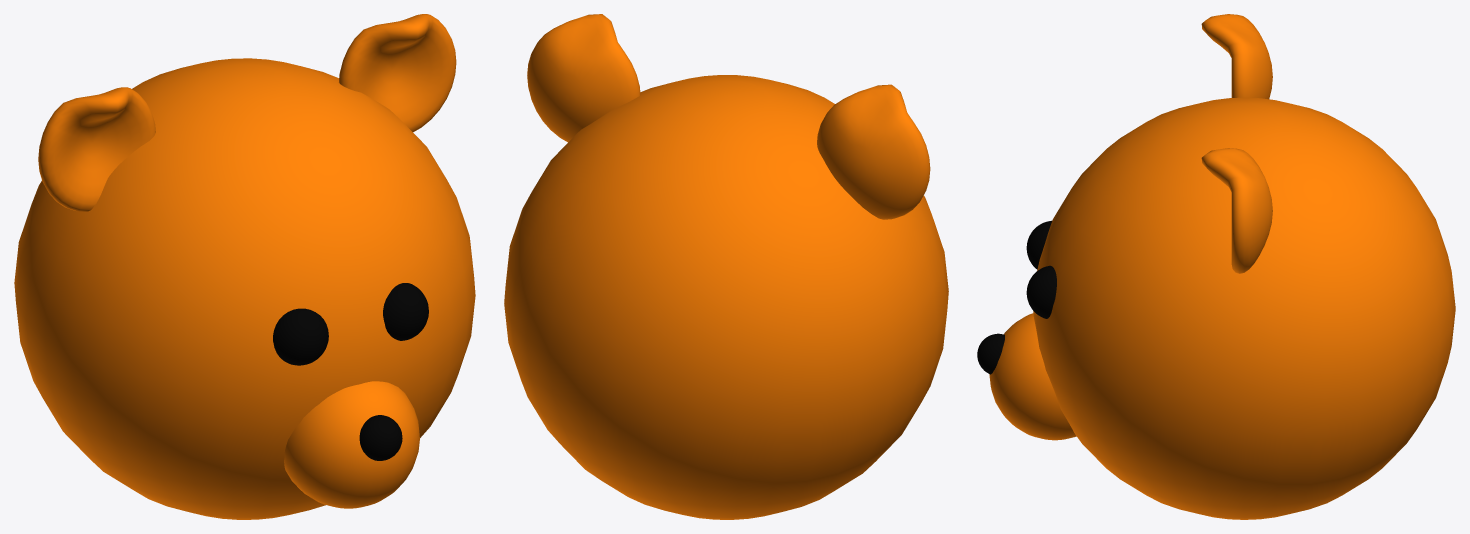
File: Teddy_head.fbx
The picture shows the model from 3 angles, left to right: view 1: azimuth 30°, elevation 25°; view 2: azimuth 150°, elevation 25°; view 3: azimuth 270°, elevation 25°; orthographic projection. The views are drawn at different scales.
Parts seen in each view (by area): view 1: Sphere.004; view 2: Sphere.004; view 3: Sphere.004.
Part boxes in pixels (box(x1,y1,x2,y2)): Sphere.004: box(14, 14, 475, 519); Sphere.004: box(504, 14, 948, 519); Sphere.004: box(977, 14, 1455, 519).
Size of the model in its own units: 208 by 216 by 226.
